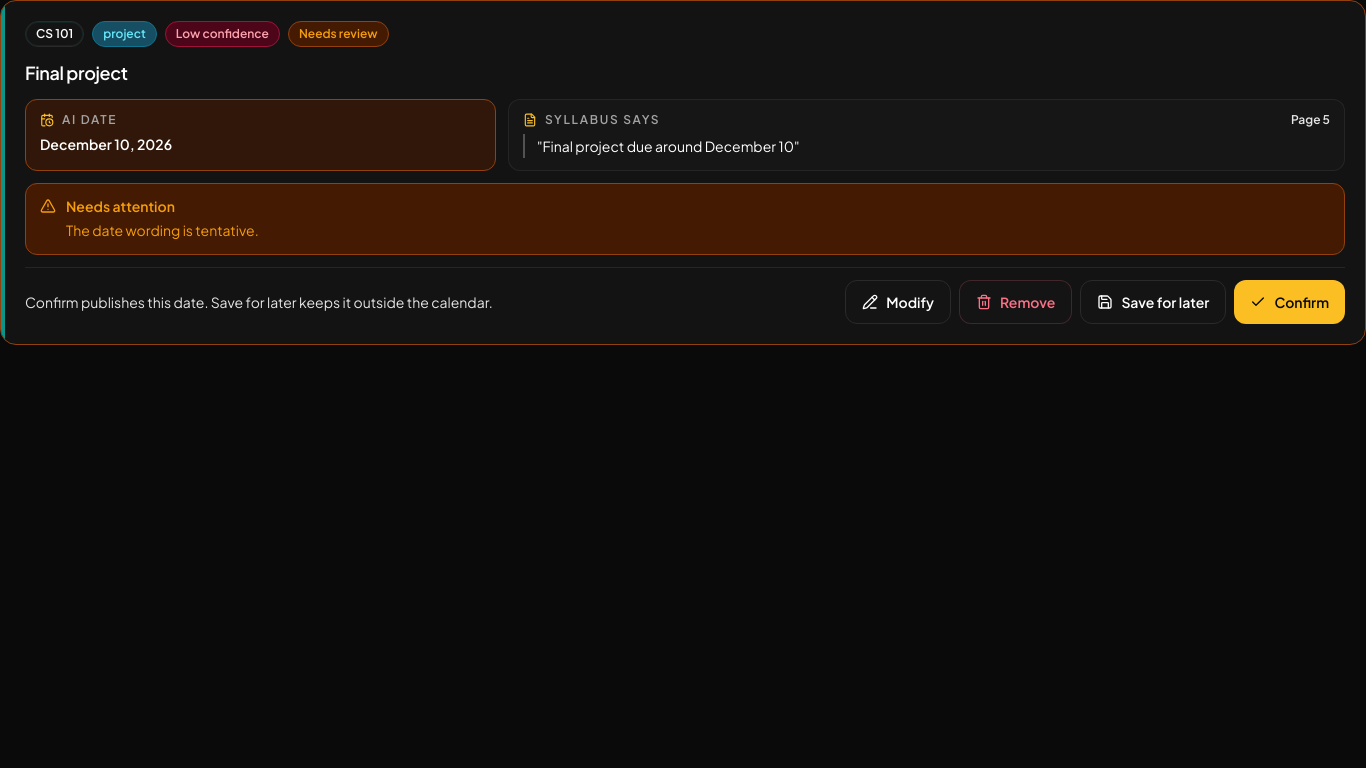
Scenario: keeps advanced fields behind More options
Click the button with aria-label "Modify Final project". click: {"x": 898, "y": 302}
box: [845,280,951,324]
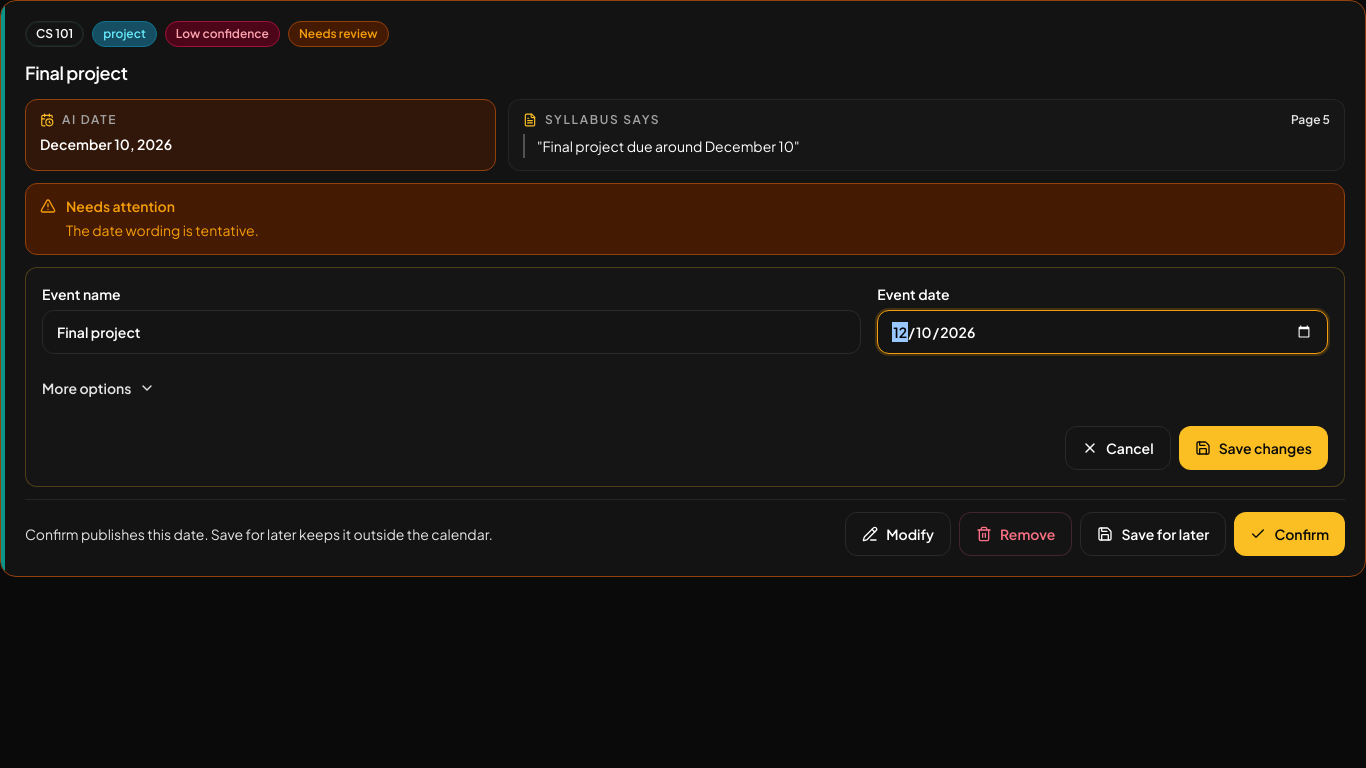
Expected: the field labelled "Event type" is not shown
Expected: the field labelled "Start time" is not shown
Click the button "More options". click: {"x": 99, "y": 388}
box: [42,366,156,410]
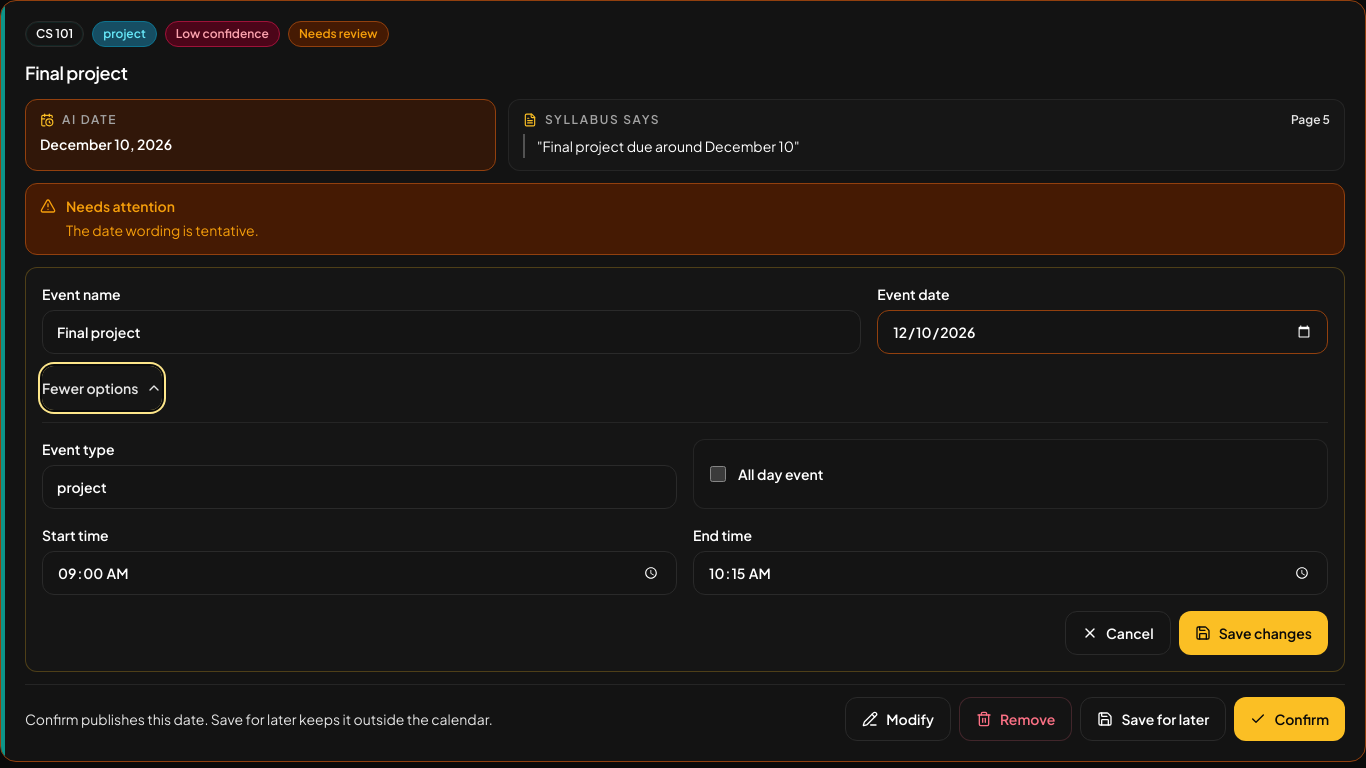
Expected: the field labelled "Event type" holds "project", [42,465,677,509]
Expected: the time field labelled "Start time" holds "09:00", [42,551,677,595]
Expected: the time field labelled "End time" holds "10:15", [693,551,1328,595]
